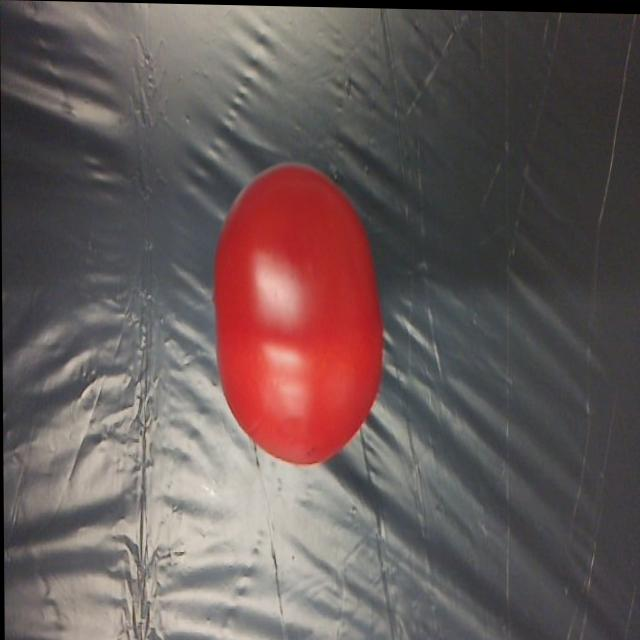kirmizi: (199, 145, 398, 476)
